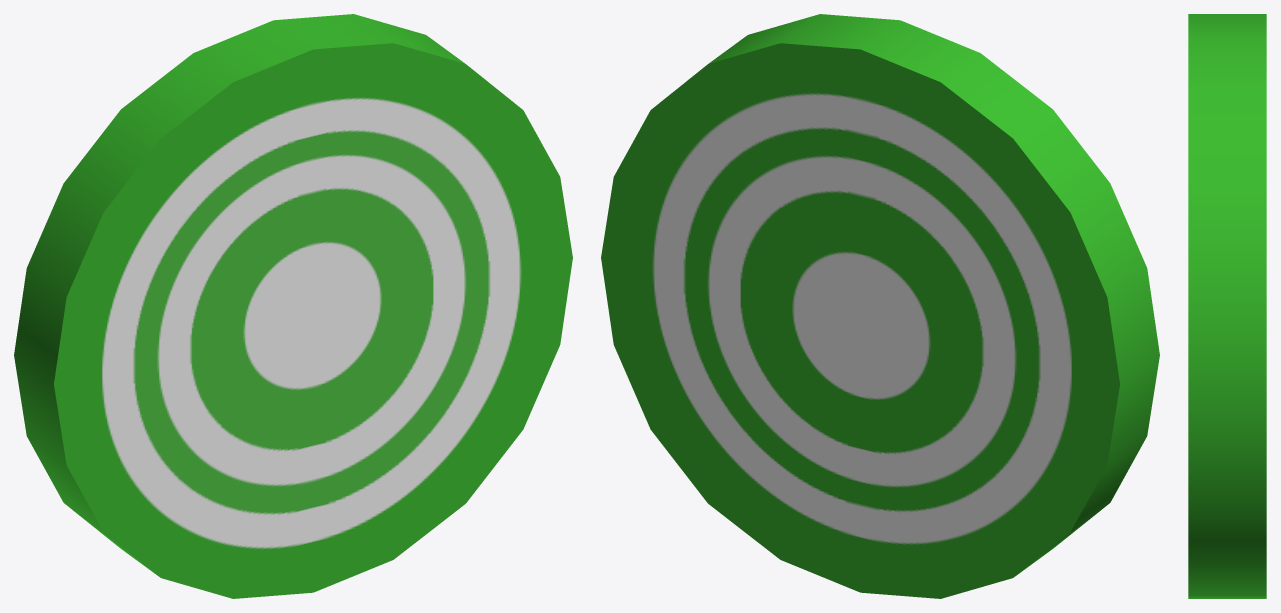
File: Enemy_TargetSkill.fbx
3 renders of one model, left to right at view 1: azimuth 30°, elevation 25°; view 2: azimuth 150°, elevation 25°; view 3: azimuth 270°, elevation 25°, orthographic.
Parts seen in each view (by area): view 1: pCylinder1; view 2: pCylinder1; view 3: pCylinder1.
Part boxes in pixels (x1,y1,x2,y2): pCylinder1: (14, 14, 572, 598); pCylinder1: (601, 14, 1159, 598); pCylinder1: (1188, 14, 1266, 598).
Bounding box in the file's own units: 2 × 2 × 0.266.
1 material, 1 textured.
